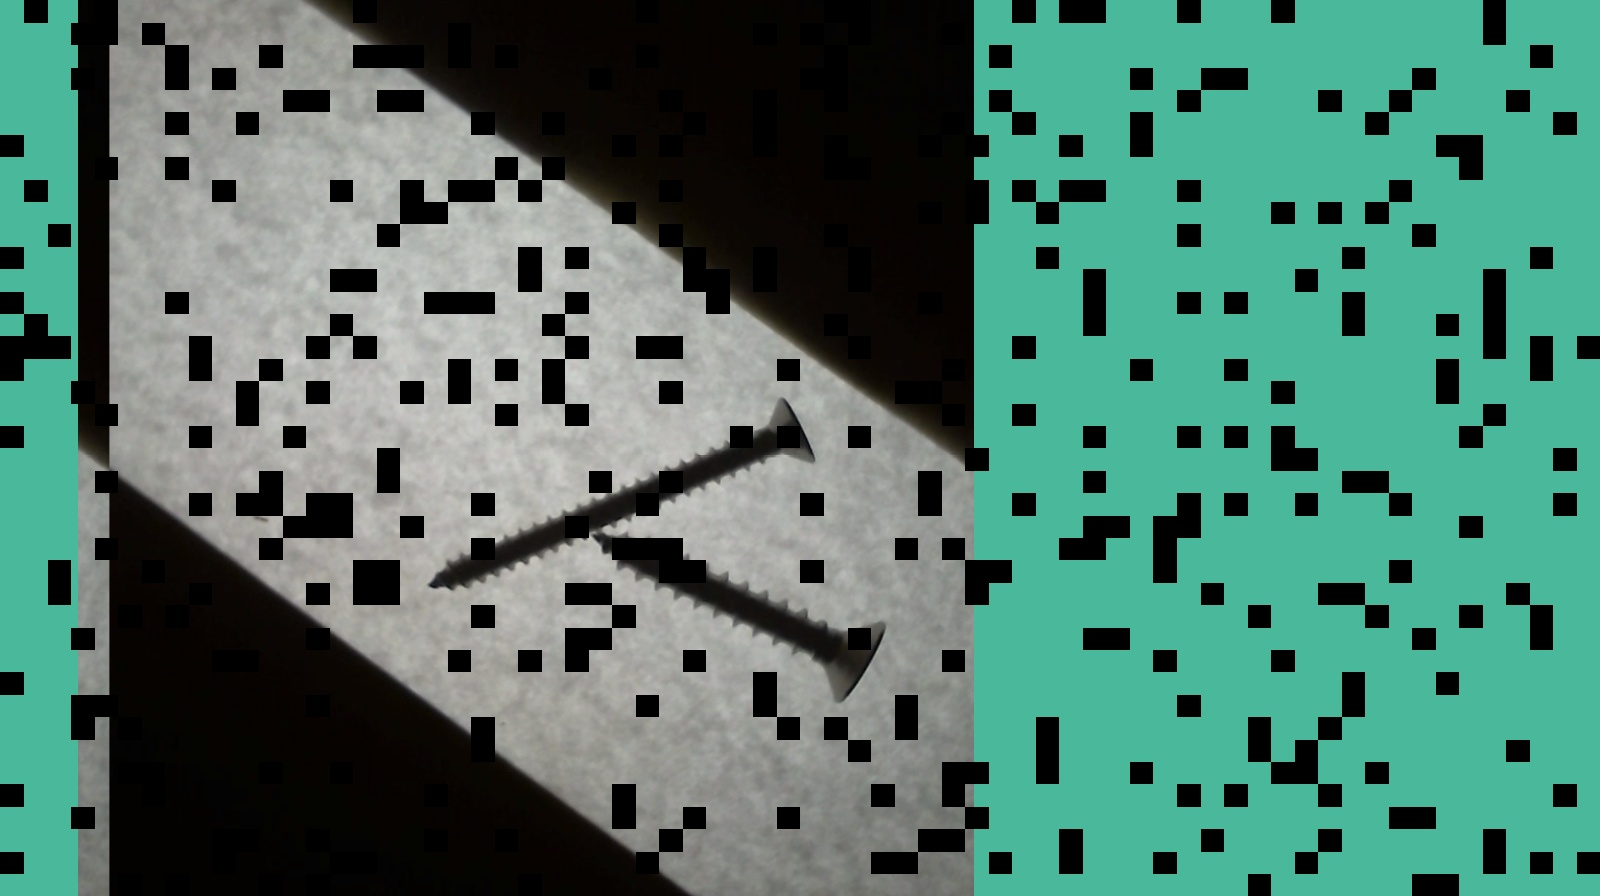S001: (585, 526, 888, 703)
S002: (418, 397, 815, 589)
